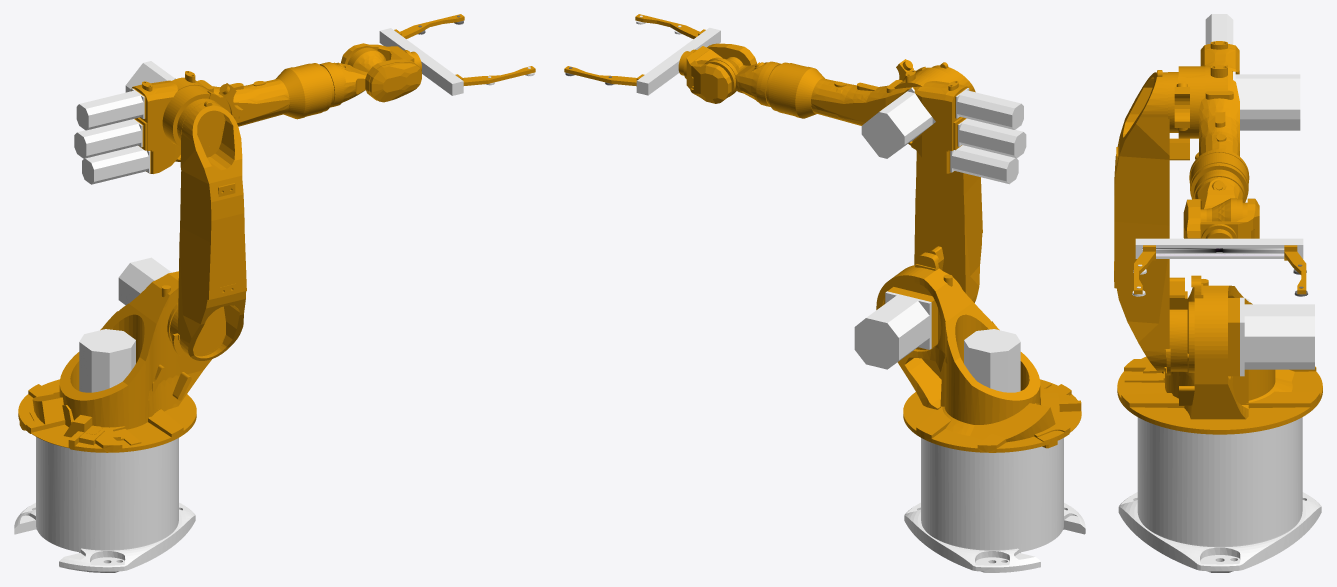
Rendered from AlleTeile_mitFarbe.dae.
3 views of the same model, side by side, from view 1: azimuth 30°, elevation 25°; view 2: azimuth 150°, elevation 25°; view 3: azimuth 270°, elevation 25° (orthographic). The views are drawn at different scales.
Visible parts, largest first — view 1: Stand, r_Arm1, r_Arm2, r_Arm3, r_Motor_unten, r_Arm4, r_Arm5, r_Minimotor1, r_Minimotor2, r_Minimotor3, r_Greifer, r_Motor_mitte (+1 smaller); view 2: r_Arm1, Stand, r_Arm3, r_Arm2, r_Motor_mitte, r_Motor_unten, r_Arm4, r_Motor_oben, r_Arm5, r_Minimotor1, r_Minimotor2, r_Minimotor3 (+1 smaller); view 3: Stand, r_Arm1, r_Arm2, r_Arm3, r_Motor_mitte, r_Motor_oben, r_Arm4, r_Greifer, r_Arm5, r_Minimotor1, Arm_links, Arm_rechts.
Part boxes in pixels (box(x1,y1,x2,y2)): Stand: box(14, 437, 195, 572); r_Arm1: box(18, 271, 211, 452); r_Arm2: box(170, 99, 246, 360); r_Arm3: box(131, 67, 310, 173); r_Motor_unten: box(79, 329, 135, 392); r_Arm4: box(294, 47, 386, 116); r_Arm5: box(341, 43, 421, 102); r_Minimotor1: box(76, 88, 144, 130); r_Minimotor2: box(74, 119, 142, 158); r_Minimotor3: box(82, 145, 150, 184); r_Greifer: box(379, 28, 463, 95); r_Motor_mitte: box(118, 257, 171, 305); r_Arm1: box(876, 252, 1081, 452); Stand: box(904, 438, 1085, 572); r_Arm3: box(790, 59, 967, 173); r_Arm2: box(914, 62, 982, 302); r_Motor_mitte: box(854, 291, 931, 369); r_Motor_unten: box(964, 329, 1020, 392); r_Arm4: box(705, 57, 806, 116); r_Motor_oben: box(861, 87, 935, 158); r_Arm5: box(678, 43, 756, 103); r_Minimotor1: box(956, 88, 1023, 129); r_Minimotor2: box(958, 118, 1026, 158); r_Minimotor3: box(950, 145, 1018, 184); Stand: box(1118, 417, 1321, 572); r_Arm1: box(1117, 275, 1322, 434); r_Arm2: box(1114, 70, 1189, 375); r_Arm3: box(1174, 41, 1249, 182); r_Motor_mitte: box(1240, 297, 1314, 376); r_Motor_oben: box(1233, 71, 1300, 130); r_Arm4: box(1190, 152, 1248, 221); r_Greifer: box(1135, 238, 1303, 258); r_Arm5: box(1183, 198, 1259, 238); r_Minimotor1: box(1205, 14, 1233, 44); Arm_links: box(1284, 245, 1306, 294); Arm_rechts: box(1134, 245, 1155, 294).
Bounding box in the file's own units: 4.91 × 1.65 × 4.41.
